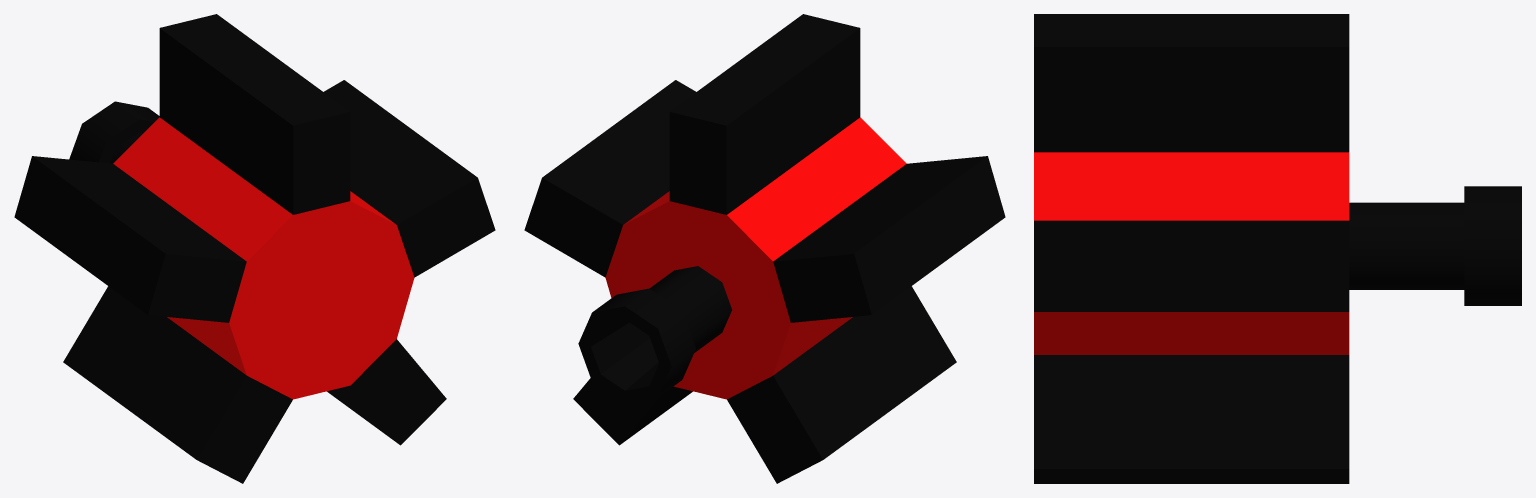
File: TubeEnemy.FBX
3 renders of one model, left to right at view 1: azimuth 30°, elevation 25°; view 2: azimuth 150°, elevation 25°; view 3: azimuth 270°, elevation 25°, orthographic. The views are drawn at different scales.
Visible parts, largest first — view 1: Cylinder15, Cylinder14; view 2: Cylinder15, Cylinder14; view 3: Cylinder15, Cylinder14.
Part boxes in pixels (<box>): Cylinder15: <box>14,14,495,483</box>; Cylinder14: <box>69,101,159,163</box>; Cylinder15: <box>524,14,1005,483</box>; Cylinder14: <box>578,266,731,403</box>; Cylinder15: <box>1034,14,1349,483</box>; Cylinder14: <box>1349,186,1521,305</box>.
Size of the model in its own units: 110 by 105 by 114.
